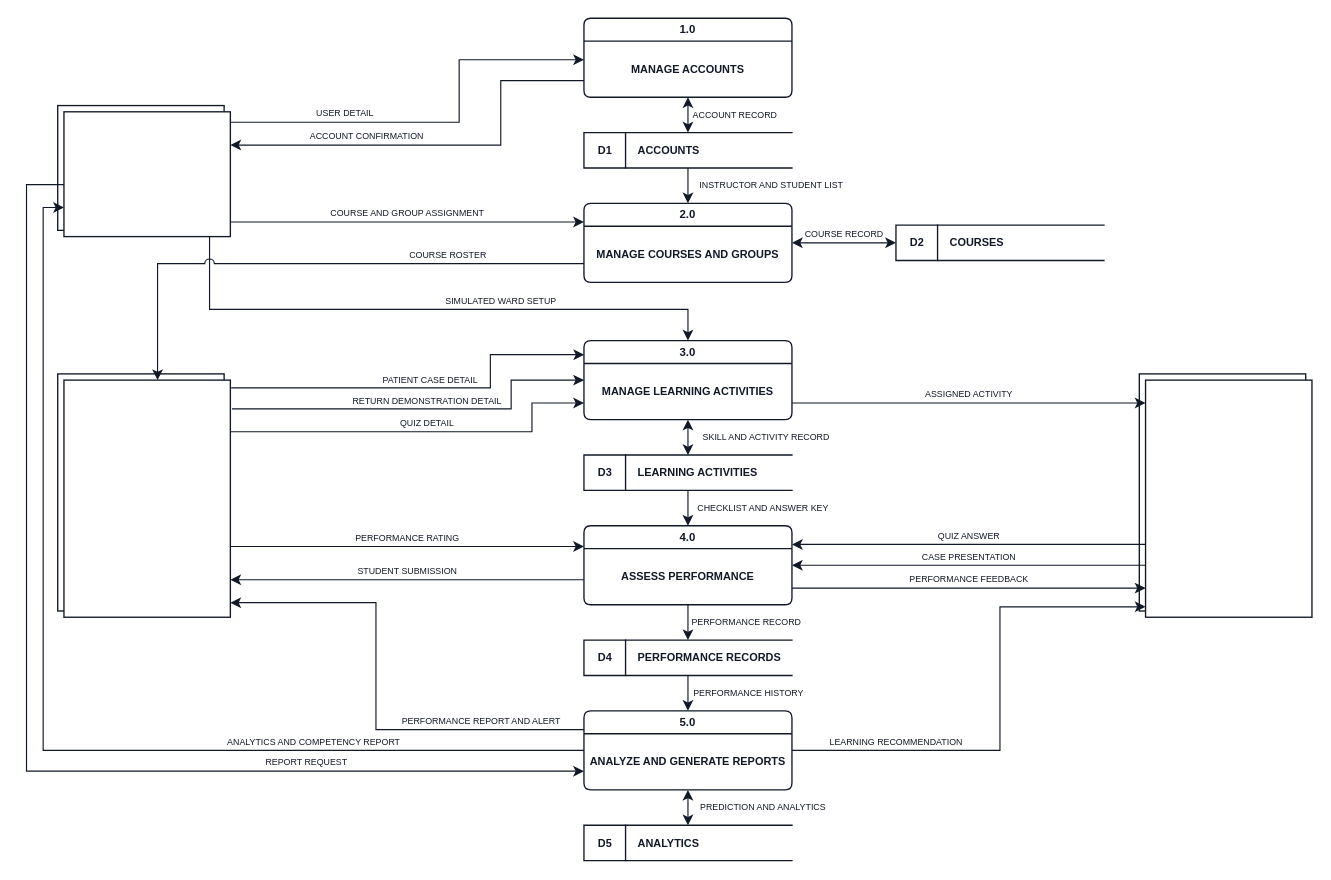
Image size: 1331x880. Some labels were removed from this diagram. The centre of each missing label's shape, as x and y in pixels:
"DEAN" goes at point (147, 174).
"INSTRUCTOR" goes at point (147, 498).
"STUDENT" goes at point (1228, 498).
